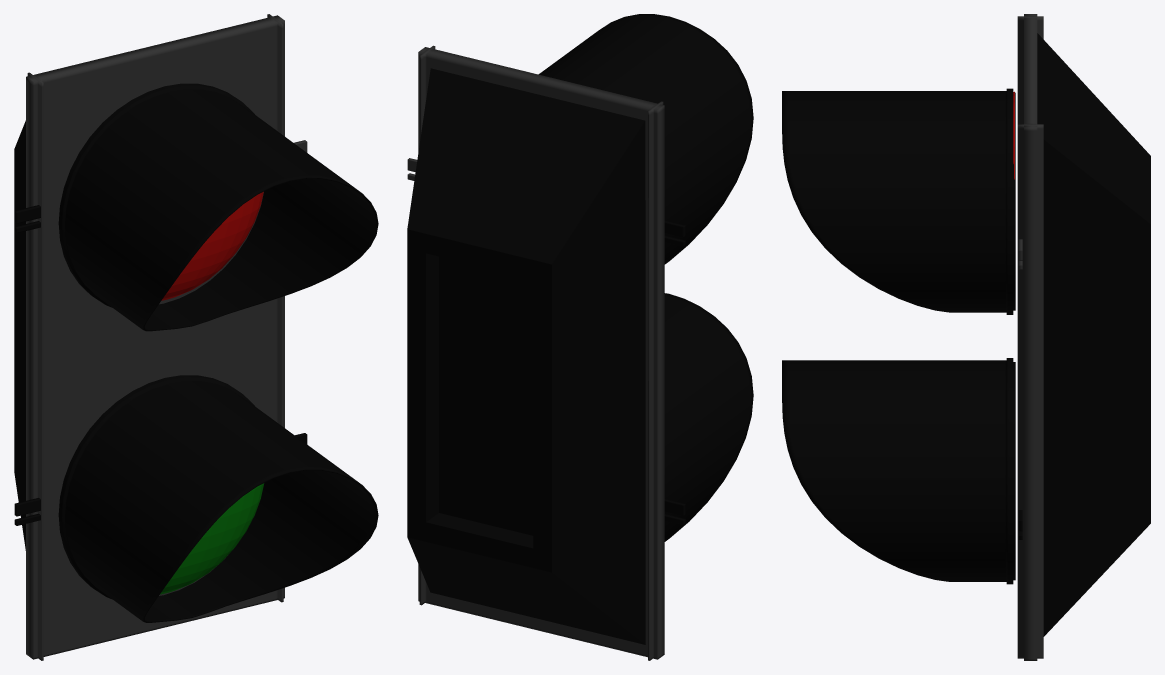
The model's file is Traffic Light Ped.fbx.
3 renders of one model, left to right at view 1: azimuth 30°, elevation 25°; view 2: azimuth 150°, elevation 25°; view 3: azimuth 270°, elevation 25°, orthographic. The views are drawn at different scales.
Visible parts, largest first — view 1: Base_LOD0, Lights; view 2: Base_LOD0; view 3: Base_LOD0.
Boxes of the visible parts, bbox=[...] form: Base_LOD0: bbox=[14, 14, 378, 660]; Lights: bbox=[160, 191, 264, 594]; Base_LOD0: bbox=[407, 14, 753, 660]; Base_LOD0: bbox=[782, 14, 1150, 660].
Bounding box in the file's own units: 67.31 × 128 × 80.1.
